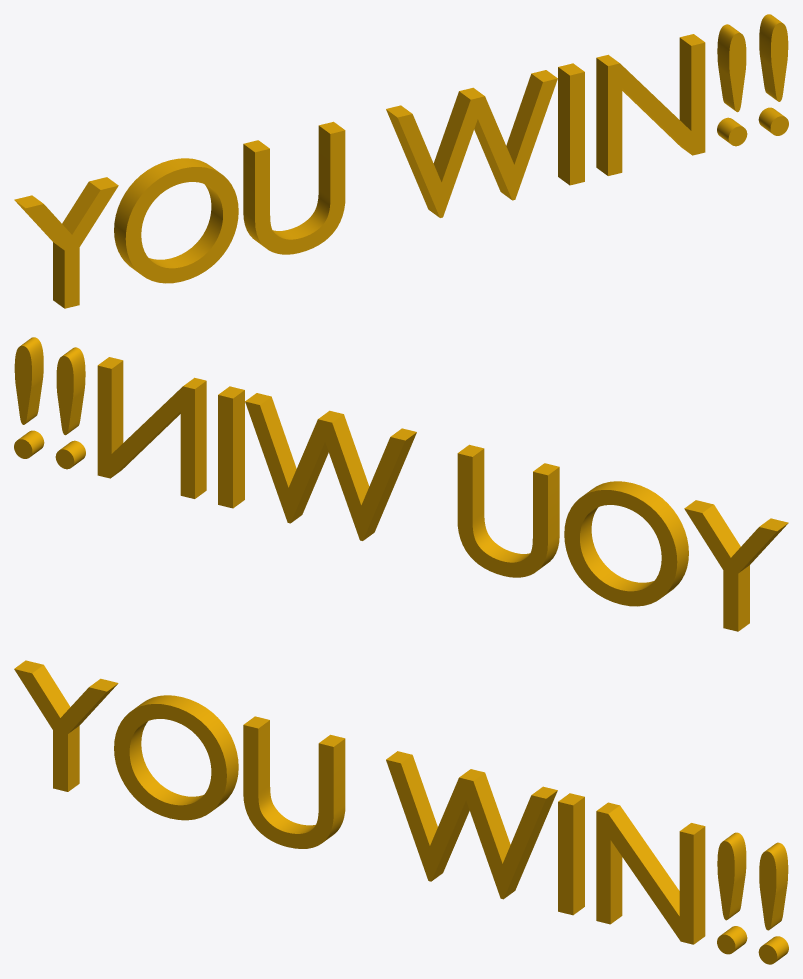
Rendered from youwin2.glb.
3 renders of one model, top to bottom at view 1: azimuth 30°, elevation 25°; view 2: azimuth 150°, elevation 25°; view 3: azimuth 330°, elevation 25°, orthographic.
Parts seen in each view (by area): view 1: Text; view 2: Text; view 3: Text.
Part boxes in pixels (x1=…): Text: x1=14, y1=14, x2=788, y2=308; Text: x1=14, y1=337, x2=788, y2=631; Text: x1=14, y1=660, x2=788, y2=964.
Size of the model in its own units: 4.95 by 0.7 by 0.132.
